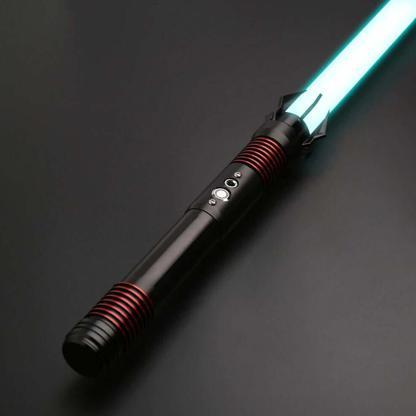lightsaber: (63, 0, 416, 387)
